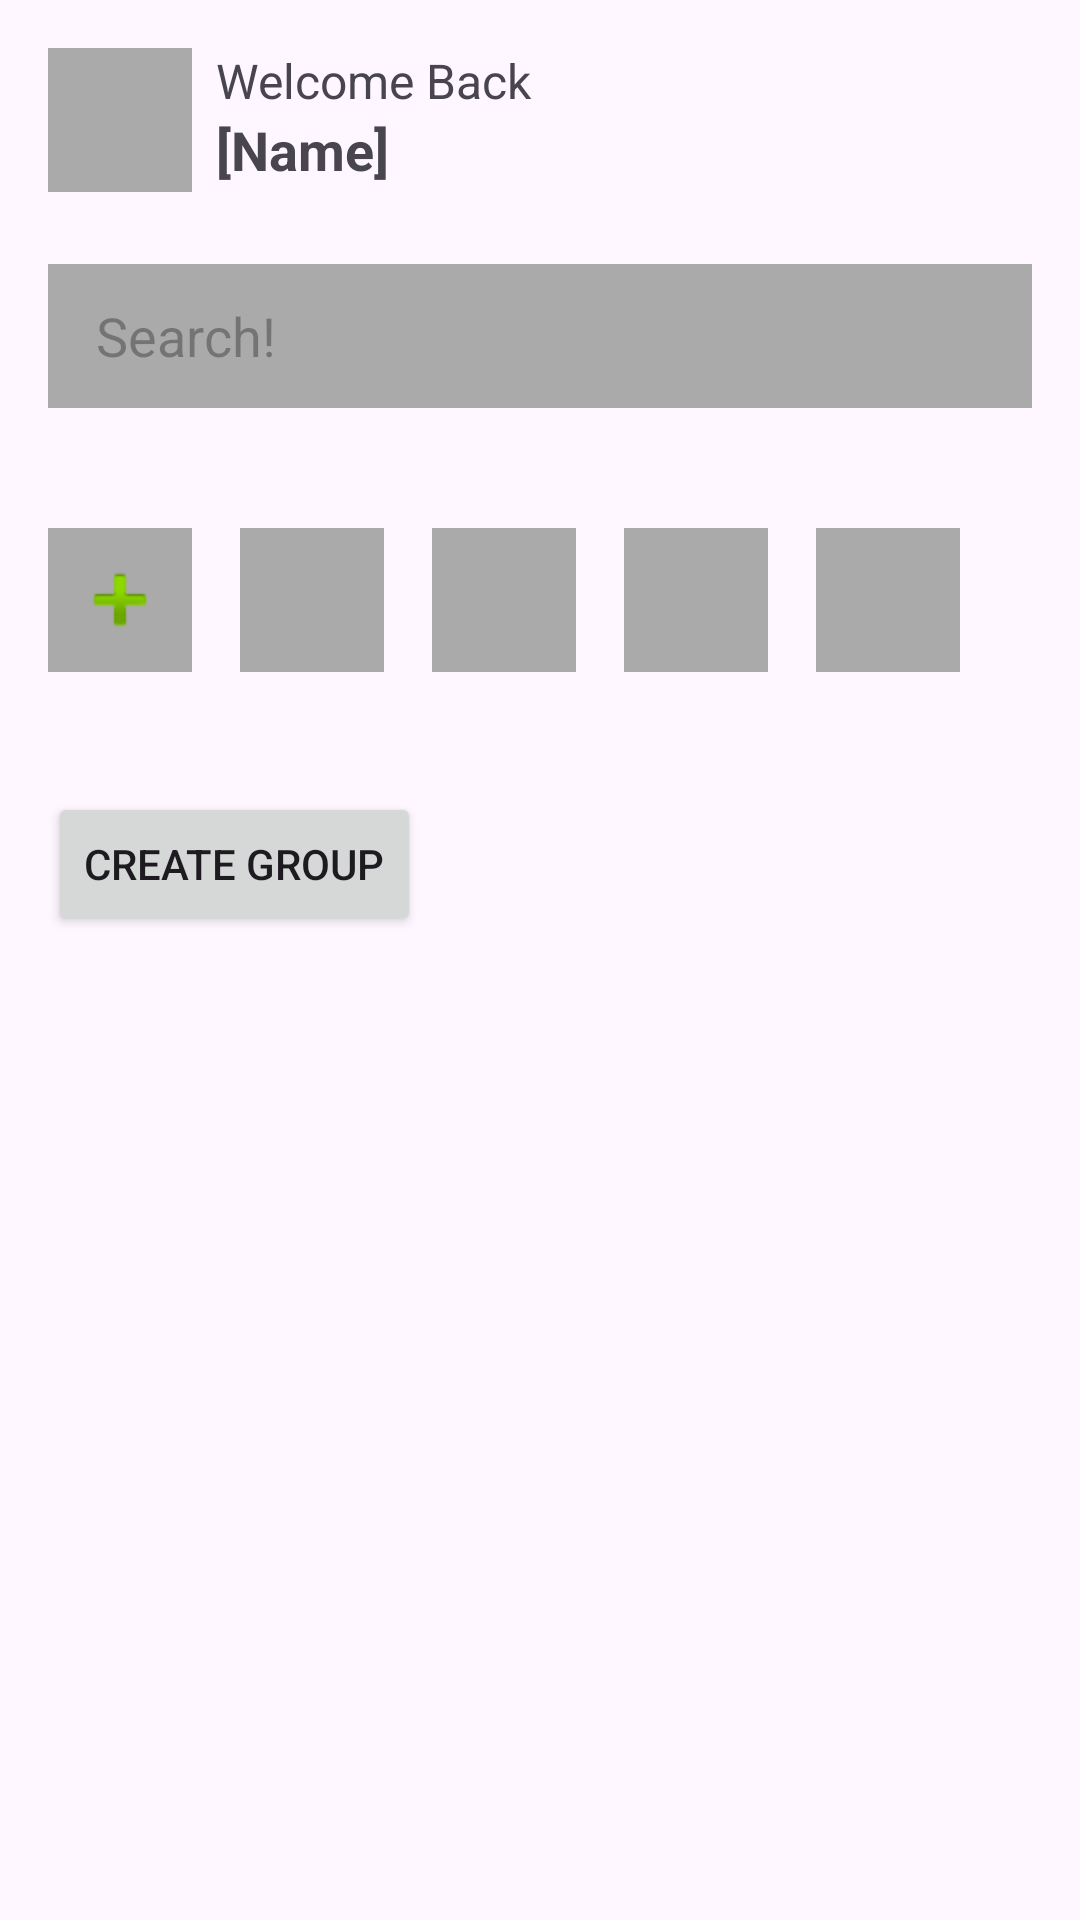

Screen size 1080x1920. Icon name, then its center in pixels as point (x, y):
add: point (120, 600)
